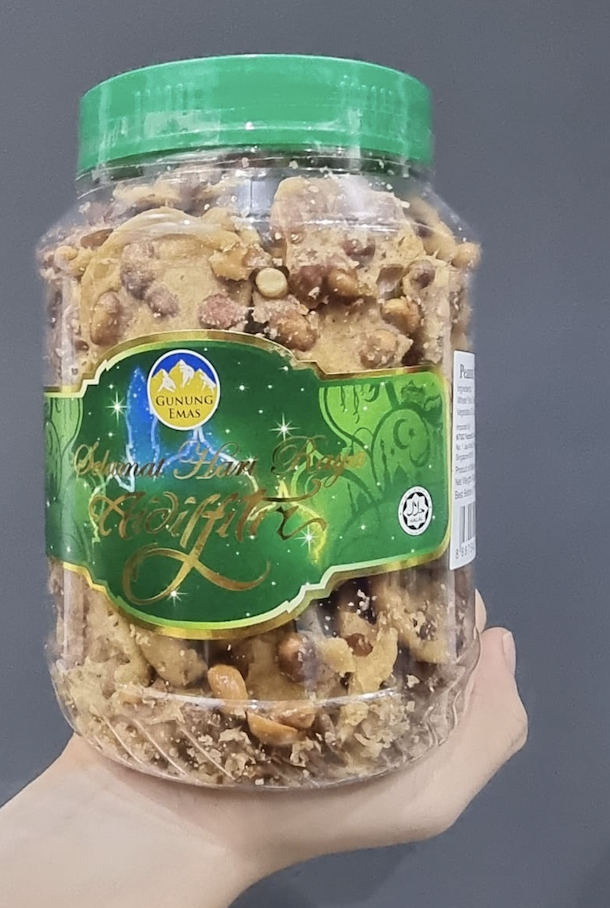Halal: (404, 496, 429, 524)
